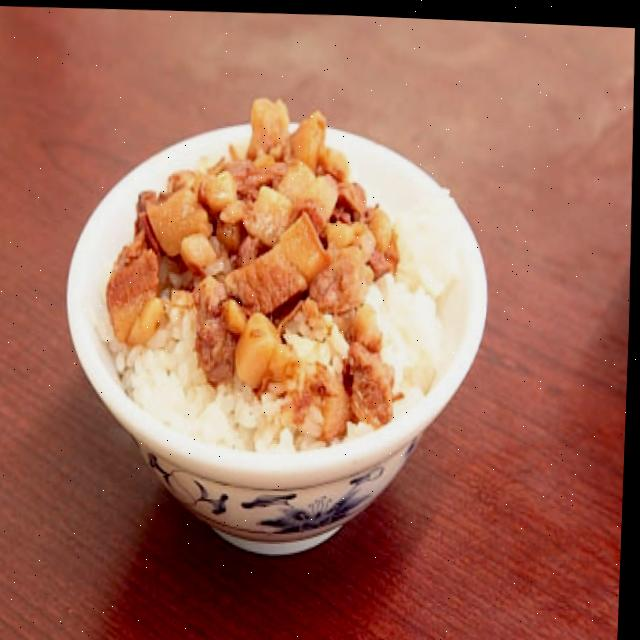猪肉菜式: (17, 40, 539, 578)
